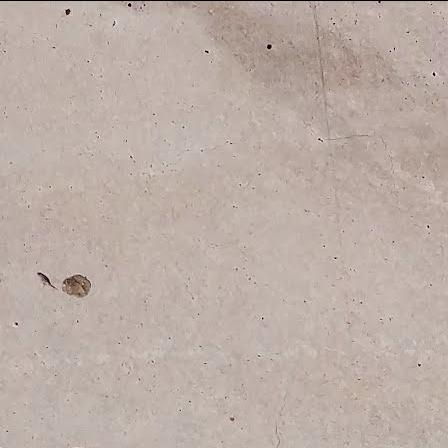crack: (285, 71, 448, 269), (269, 371, 295, 447)
